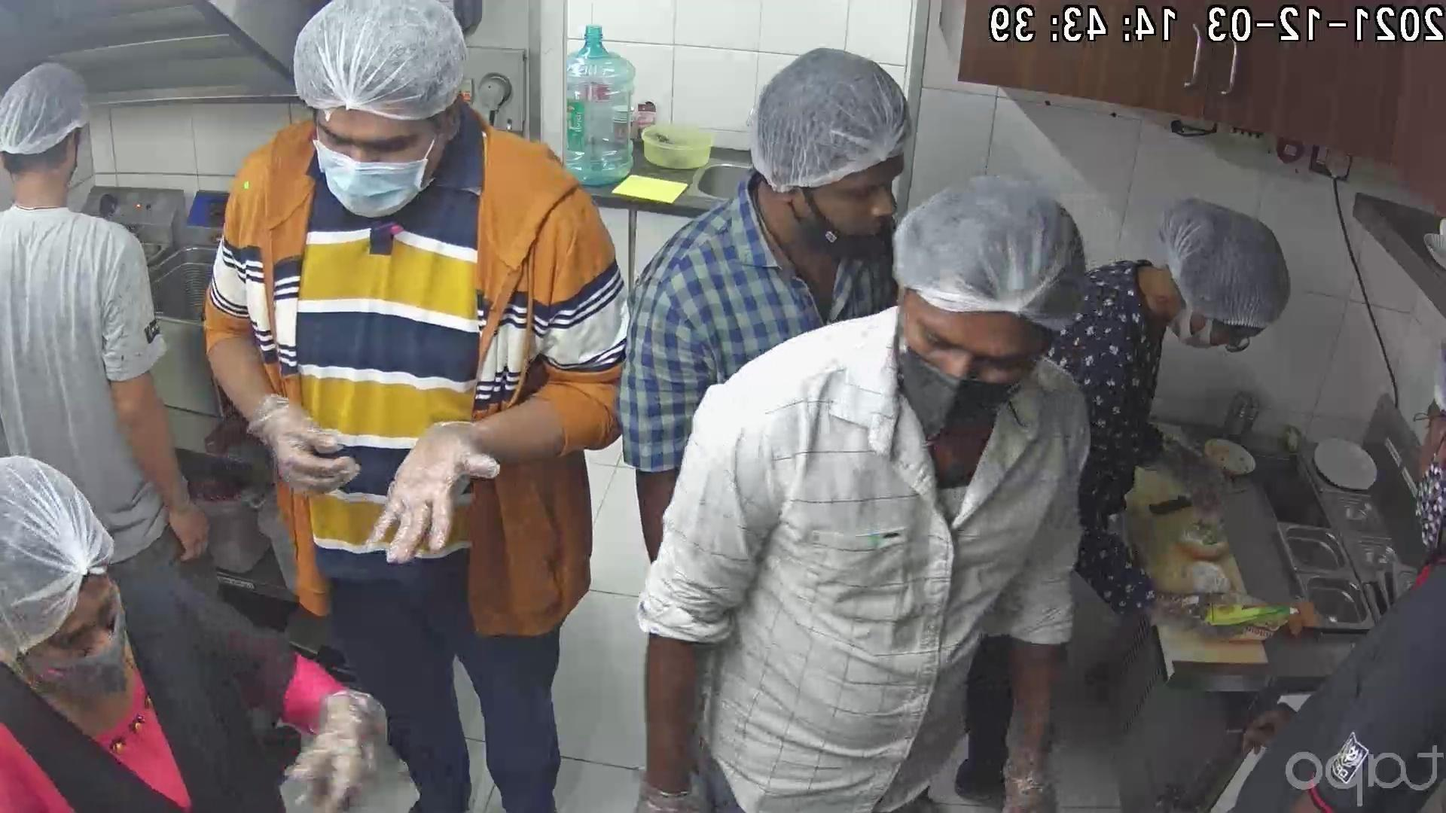apron: (363, 407, 511, 577), (267, 676, 406, 813), (234, 370, 358, 507), (1128, 565, 1292, 635), (1146, 415, 1247, 522), (990, 711, 1080, 813), (621, 761, 726, 813)
gloves: (895, 161, 1095, 340), (0, 425, 123, 675), (749, 43, 929, 196), (291, 0, 487, 132), (1146, 190, 1301, 336), (0, 43, 108, 183)
mask: (879, 301, 1019, 430), (13, 621, 163, 722), (310, 127, 433, 212), (1396, 438, 1446, 556)
no_apron: (159, 478, 235, 581), (1228, 686, 1324, 755)
no_hairnet: (797, 143, 908, 253)
